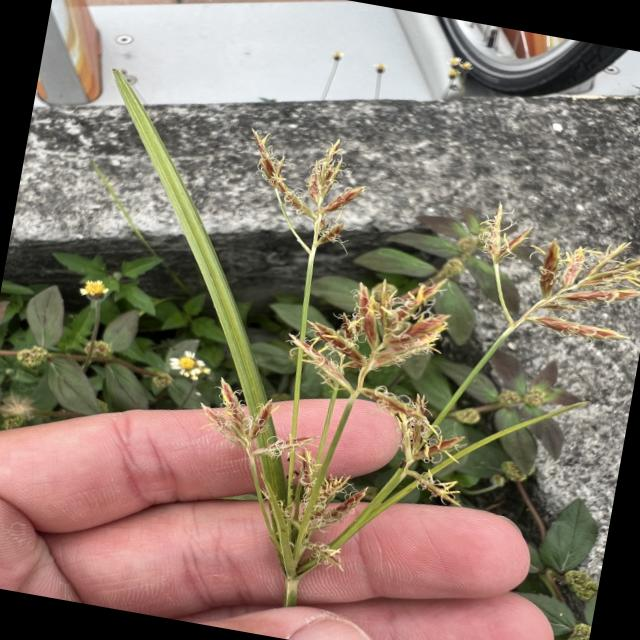cyperus: (169, 104, 640, 618), (270, 253, 503, 514), (174, 370, 381, 586), (455, 189, 640, 373), (228, 116, 376, 270)
